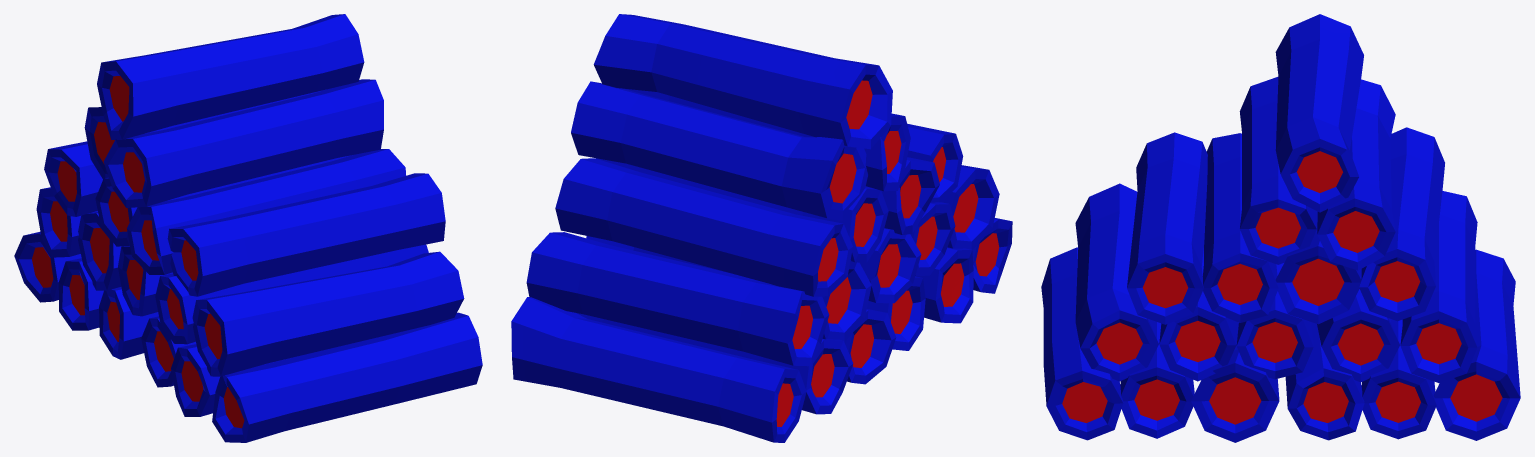
File: SM_Short_LogStack1.fbx
The picture shows the model from 3 angles, left to right: view 1: azimuth 30°, elevation 25°; view 2: azimuth 150°, elevation 25°; view 3: azimuth 270°, elevation 25°; orthographic projection. The views are drawn at different scales.
Visible parts, largest first — view 1: SM_Short_LogStack1; view 2: SM_Short_LogStack1; view 3: SM_Short_LogStack1.
Boxes of the visible parts, x1,y1,x2,y2 form: SM_Short_LogStack1: (14, 14, 482, 442); SM_Short_LogStack1: (511, 14, 1012, 442); SM_Short_LogStack1: (1041, 14, 1520, 442).
Bounding box in the file's own units: 80.56 × 88.8 × 126.
